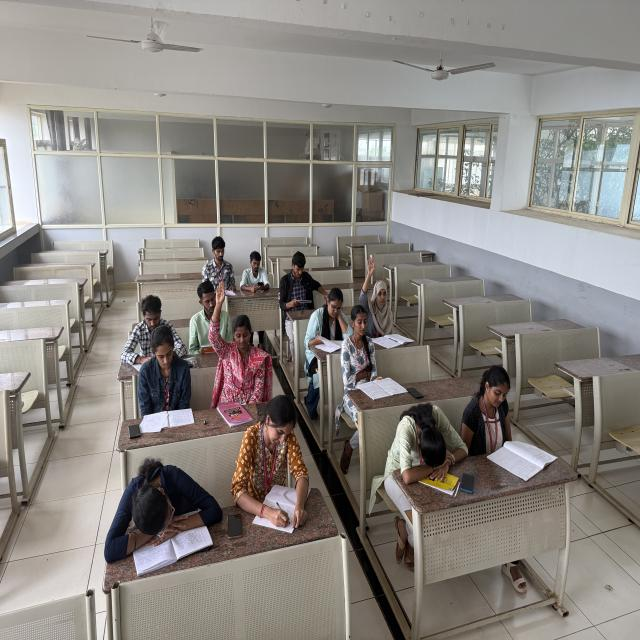Hand Rising: (211, 278, 269, 384), (356, 254, 414, 330)
Reading: (462, 364, 548, 466), (125, 318, 198, 424), (338, 306, 401, 401), (120, 287, 181, 371), (179, 274, 221, 358), (309, 285, 352, 356), (273, 246, 320, 305)
Sleeping: (99, 449, 222, 536), (380, 393, 477, 484)
Using Phone: (236, 245, 270, 297)
Writing: (236, 403, 313, 528)
